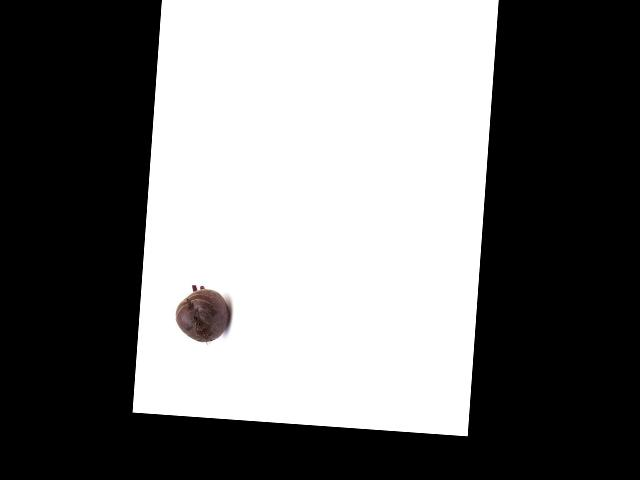beet: (173, 284, 232, 344)
